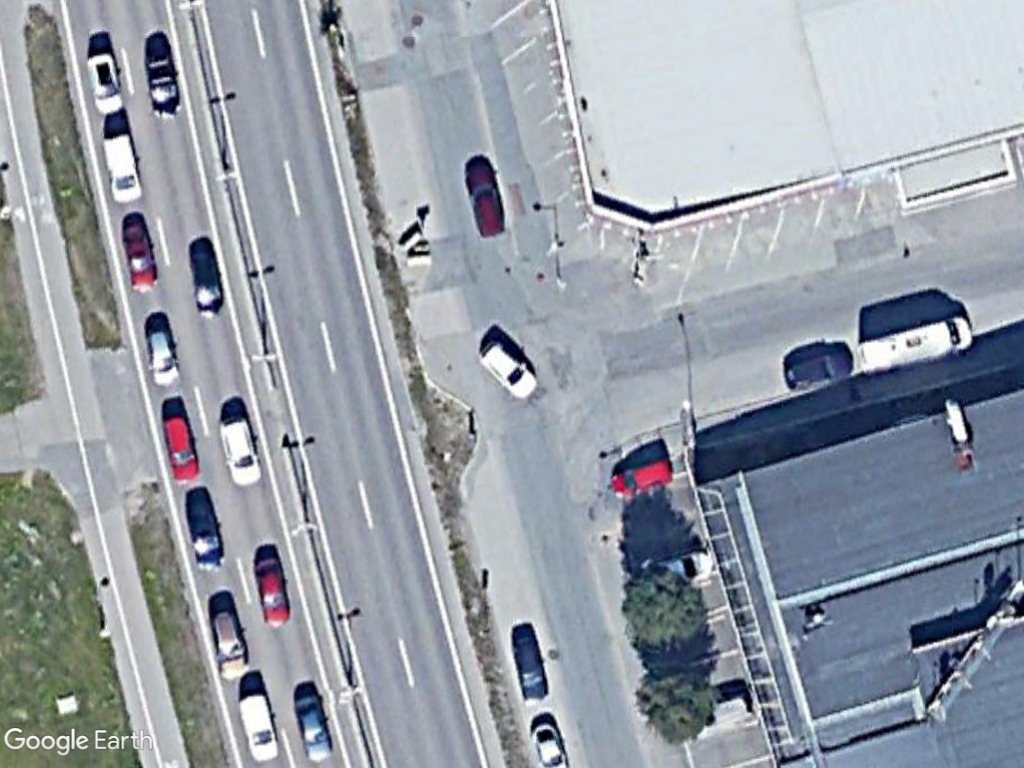car: (474, 333, 542, 405), (460, 154, 512, 246), (205, 600, 255, 689), (248, 545, 296, 634), (216, 409, 266, 490), (154, 406, 203, 488), (183, 492, 229, 578), (183, 237, 229, 323), (777, 343, 856, 392), (289, 689, 338, 768), (509, 627, 555, 709), (117, 212, 160, 299), (605, 452, 678, 502), (140, 320, 187, 394)
van: (850, 309, 982, 384), (232, 686, 285, 768), (101, 130, 146, 209)
